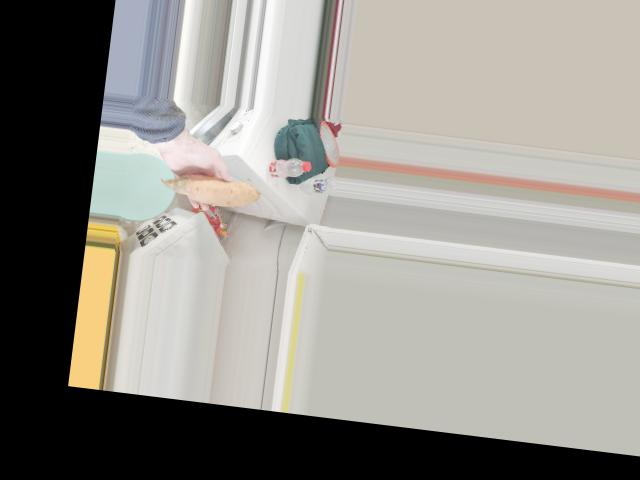sweet_potato: (179, 166, 250, 205)
